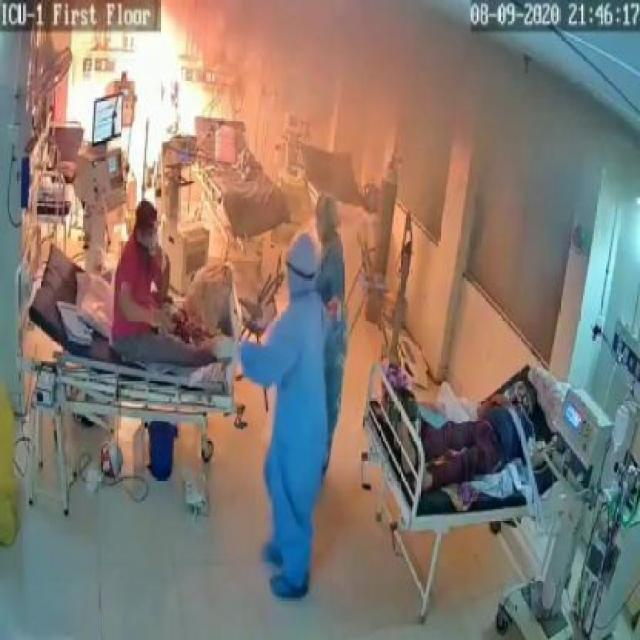fire: (105, 14, 207, 160)
smoke: (230, 2, 632, 216)
